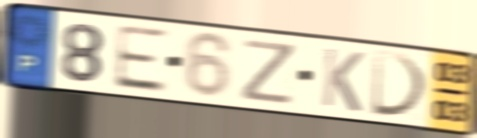6: (181, 30, 238, 103)
8: (61, 21, 106, 84)
D: (369, 48, 432, 120)
E: (111, 22, 170, 95)
K: (318, 45, 366, 115)
Z: (238, 37, 299, 108)
